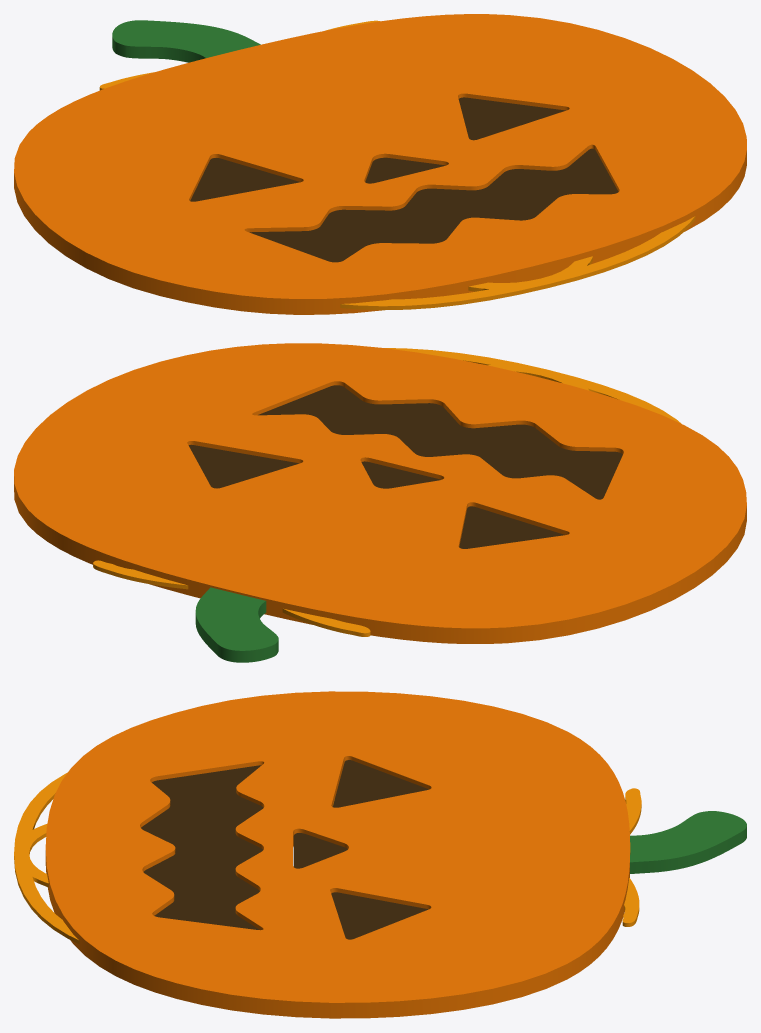
Rendered from emoji_u1f383.glb.
3 renders of one model, top to bottom at view 1: azimuth 30°, elevation 25°; view 2: azimuth 150°, elevation 25°; view 3: azimuth 270°, elevation 25°, orthographic.
Visible parts, largest first — view 1: emoji_u1f383; view 2: emoji_u1f383; view 3: emoji_u1f383.
Part boxes in pixels (x1,y1,x2,y2): emoji_u1f383: (14, 14, 746, 314); emoji_u1f383: (14, 343, 746, 662); emoji_u1f383: (14, 691, 746, 1018).
Size of the model in its own units: 0.0341 by 0.0008 by 0.0339.
